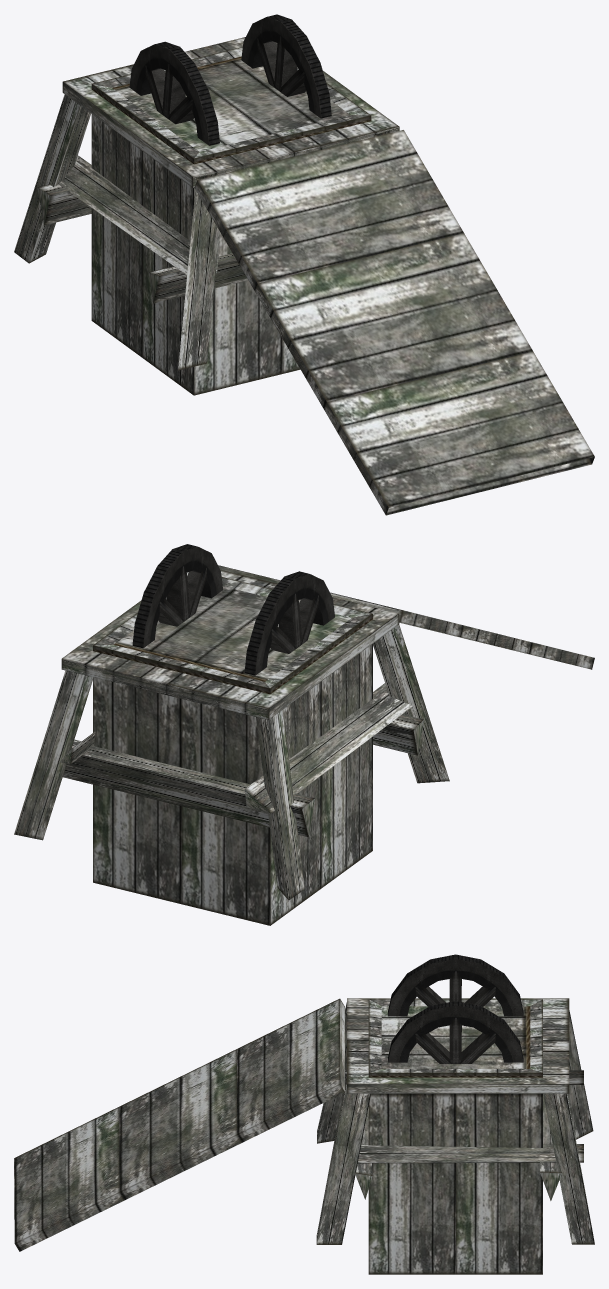
File: pir_m_prp_mng_elevator_base.fbx
The picture shows the model from 3 angles, top to bottom: view 1: azimuth 30°, elevation 25°; view 2: azimuth 150°, elevation 25°; view 3: azimuth 270°, elevation 25°; orthographic projection. The views are drawn at different scales.
Parts seen in each view (by area): view 1: ramp, shaft, wheel, post, base, brace, shaft_hole; view 2: shaft, brace, post, wheel, base, shaft_hole, ramp; view 3: shaft, ramp, post, wheel, base, brace, shaft_hole.
Part boxes in pixels (left/top/right/bottom): ramp: left=194, top=130, right=594, bottom=515; shaft: left=91, top=47, right=371, bottom=395; wheel: left=129, top=14, right=331, bottom=145; post: left=14, top=94, right=396, bottom=370; base: left=62, top=37, right=399, bottom=187; brace: left=37, top=155, right=247, bottom=303; shaft_hole: left=112, top=56, right=349, bottom=151; shaft: left=93, top=577, right=372, bottom=925; brace: left=60, top=683, right=423, bottom=836; post: left=14, top=624, right=449, bottom=900; wheel: left=132, top=544, right=334, bottom=675; base: left=61, top=570, right=399, bottom=719; shaft_hole: left=114, top=586, right=351, bottom=681; ramp: left=218, top=565, right=594, bottom=669; shaft: left=368, top=999, right=542, bottom=1274; ramp: left=14, top=998, right=344, bottom=1251; post: left=316, top=1002, right=594, bottom=1244; wheel: left=388, top=954, right=523, bottom=1063; base: left=347, top=998, right=569, bottom=1093; brace: left=345, top=1070, right=583, bottom=1200; shaft_hole: left=381, top=1006, right=530, bottom=1068.
Bounding box in the file's own units: 1778 × 1869 × 3822.
Materials: 1 (1 with a texture image).
